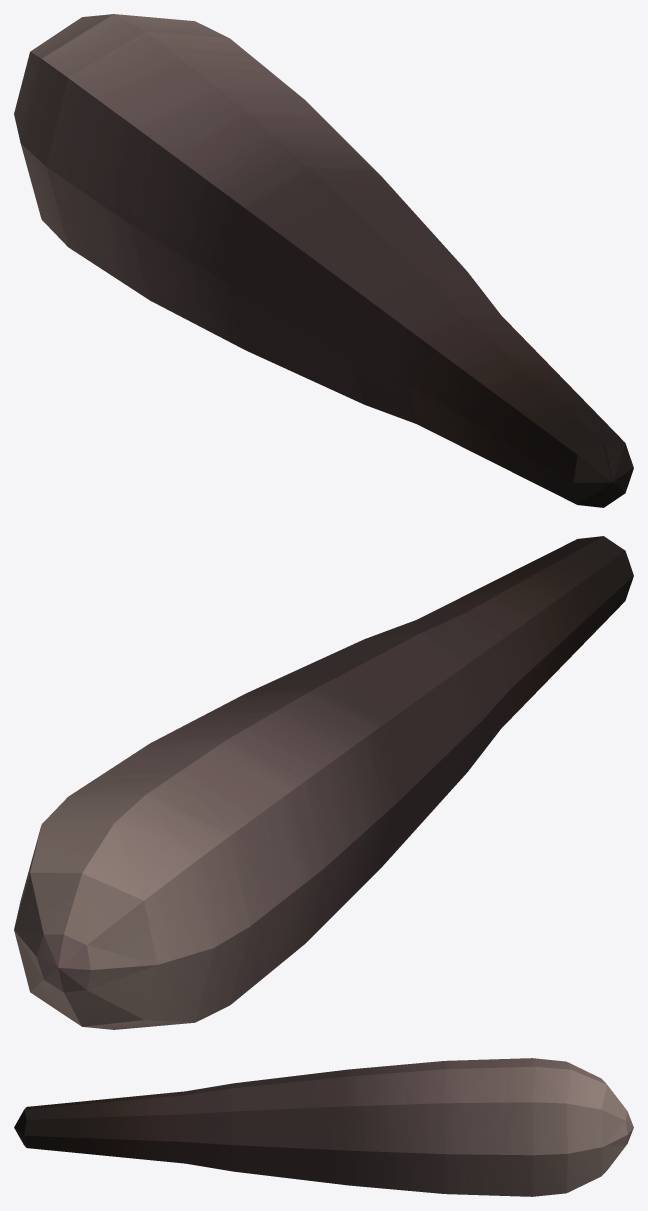
Rendered from Club.obj.
3 renders of one model, top to bottom at view 1: azimuth 30°, elevation 25°; view 2: azimuth 150°, elevation 25°; view 3: azimuth 270°, elevation 25°, orthographic. The views are drawn at different scales.
Visible parts, largest first — view 1: Cube.001; view 2: Cube.001; view 3: Cube.001.
Part boxes in pixels (box(x1,y1,x2,y2)): Cube.001: box(14, 14, 633, 507); Cube.001: box(14, 536, 633, 1029); Cube.001: box(14, 1058, 633, 1196).
Bounding box in the file's own units: 1.18 × 1.21 × 5.58.
1 material, 1 textured.
